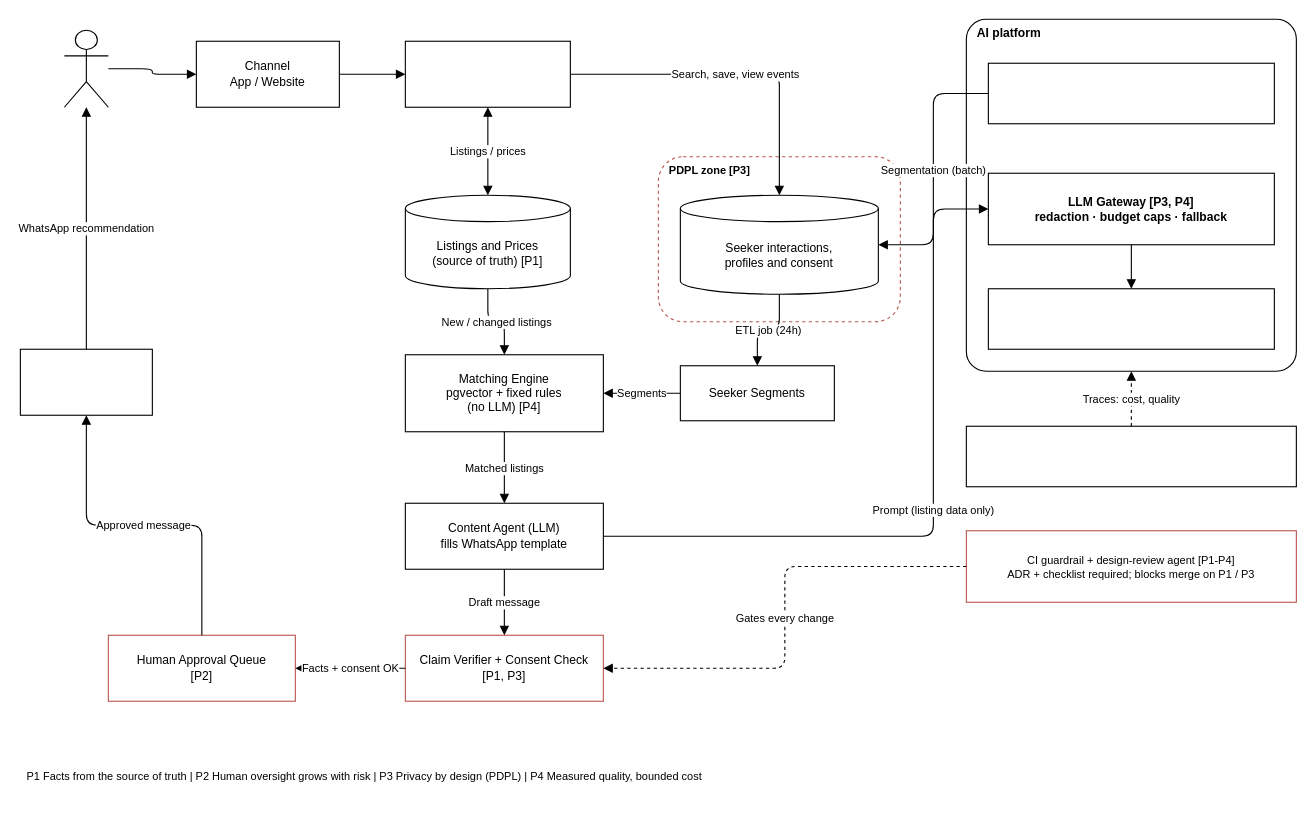
Image size: 1316x814. Some labels were removed from this diagram. The shapes that lost their labels are listed below. From the top down, each one's centre as x and y in pixels, then its label:
point 85,68: Property Seeker
point 487,73: Marketplace Service
point 1130,93: Intent, segmentation and drop-off models (batch)
point 1130,318: Managed LLM API (+ second provider)
point 85,381: Channel WhatsApp
point 1130,456: Evals and Monitoring [P4] quality · cost · conversion
